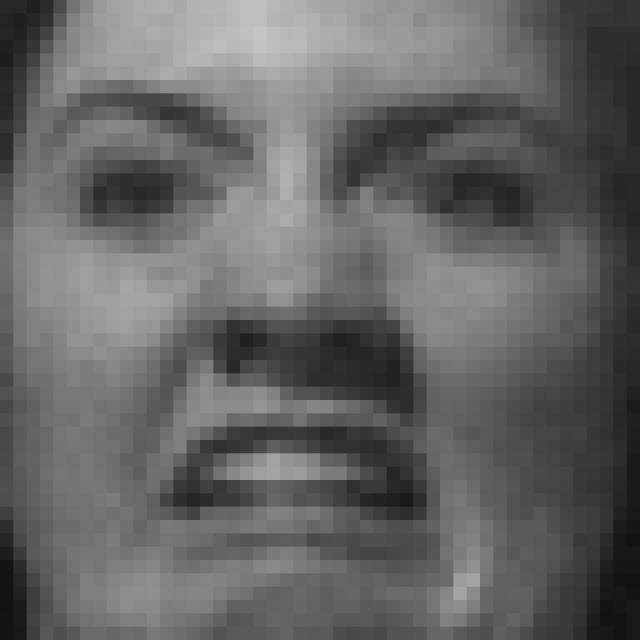disgust: (33, 85, 573, 575)
